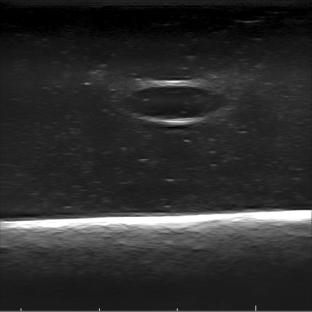vessel: (124, 79, 227, 125)
